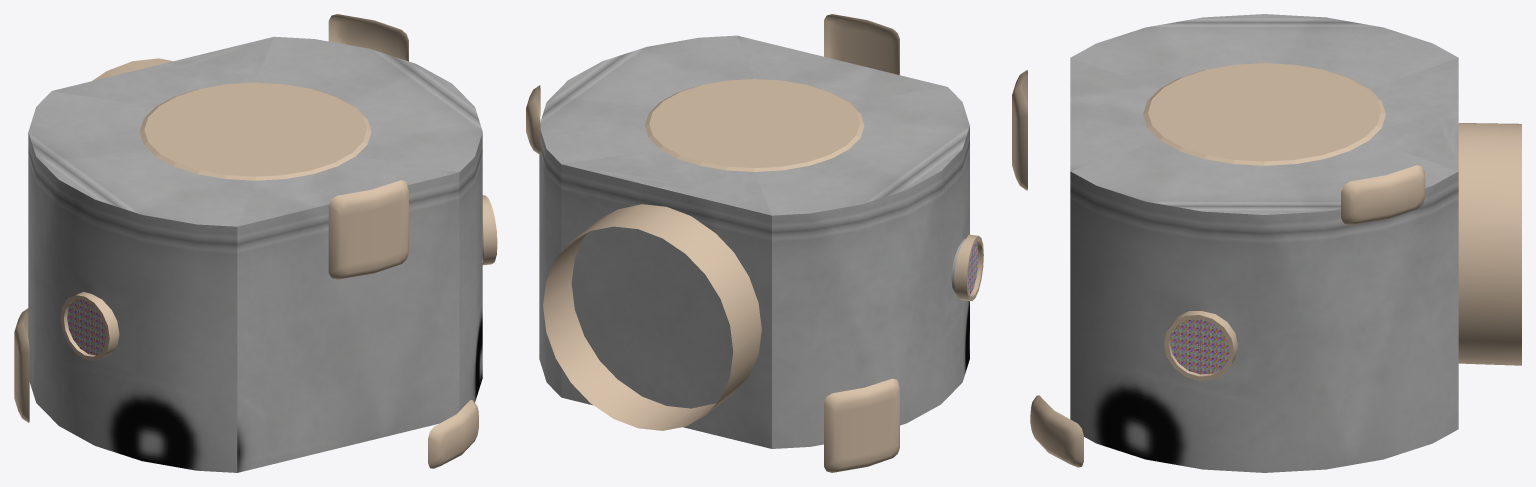
Rendered from vega_crew_s1_1_interior.obj.
3 views of the same model, side by side, from view 1: azimuth 30°, elevation 25°; view 2: azimuth 150°, elevation 25°; view 3: azimuth 270°, elevation 25° (orthographic). The views are drawn at different scales.
Visible parts, largest first — view 1: i1, im1, iw1; view 2: i1, im1; view 3: i1, im1, iw1.
Boxes of the visible parts, x1=… form: i1: x1=28, y1=36, x2=483, y2=472; im1: x1=14, y1=14, x2=497, y2=468; iw1: x1=67, y1=299, x2=106, y2=355; i1: x1=539, y1=35, x2=969, y2=448; im1: x1=526, y1=14, x2=983, y2=472; i1: x1=1070, y1=14, x2=1458, y2=472; im1: x1=1012, y1=63, x2=1521, y2=467; iw1: x1=1170, y1=319, x2=1229, y2=374.
Bounding box in the file's own units: 1.3 × 0.9 × 1.31.
